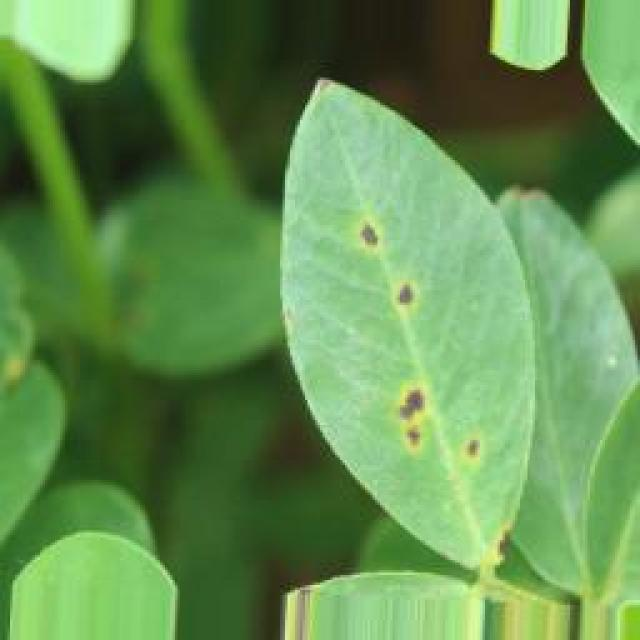Sigatoka: (325, 208, 432, 332), (348, 361, 437, 464), (426, 394, 496, 494)
